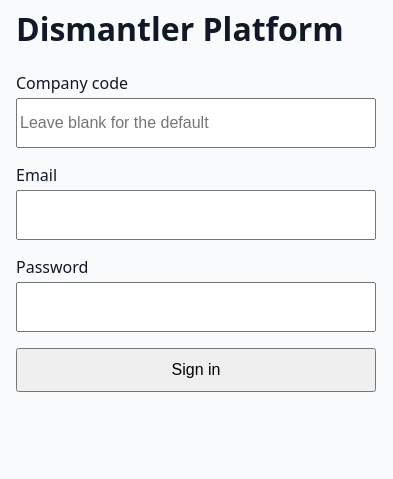
Scenario: sign-in › shows the server error on a bad password
In the field labelled "Email": (196, 215) [16,190,376,240], type "s@x.co"
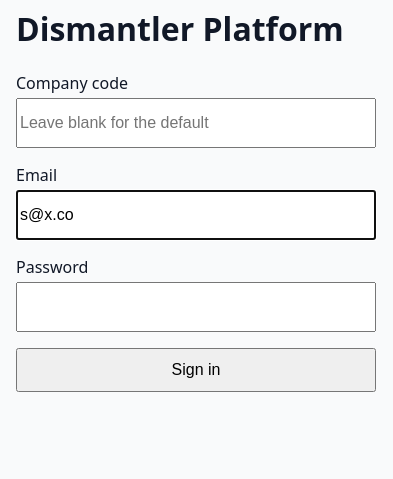
In the password field labelled "Password": (196, 307) [16,282,376,332], type "wrong-wrong-wrong"
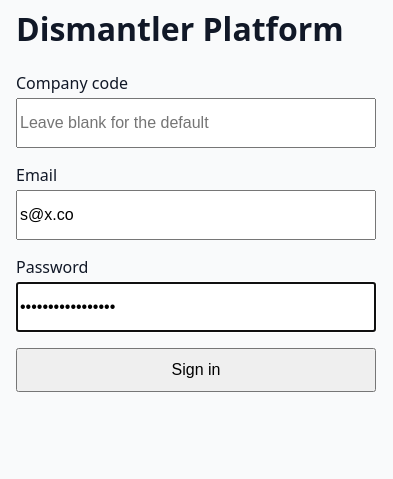
Click the button "Sign in": (196, 370) [16,348,376,392]
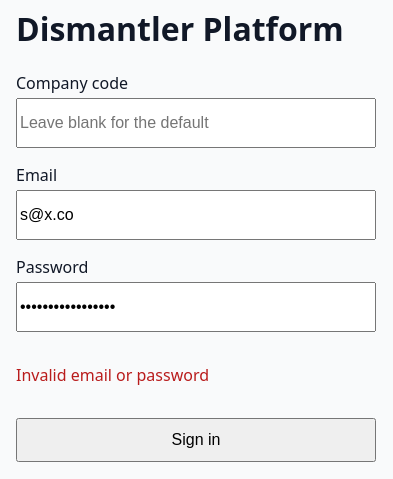
Check: the message reads "Invalid email or password", box [16,364,209,386]
